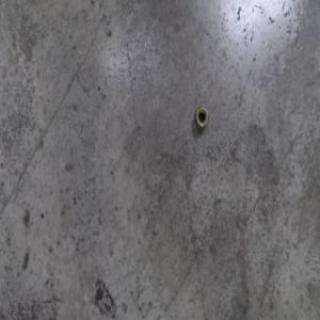Nuttrack_idkeyframe: (195, 104, 208, 129)
